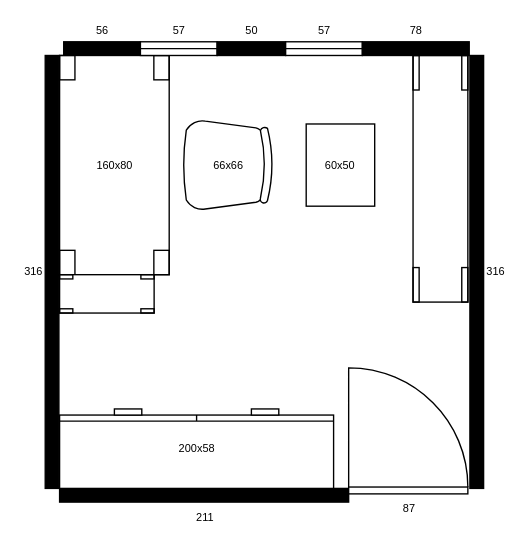
Some shapes in this 527 by 548 pixel diagram are drawn without their labels. Here are the shapes that lost their labels. From the top down, the centre of each, then its label:
the point at 440,178: 180x40
the point at 106,293: 28x69
